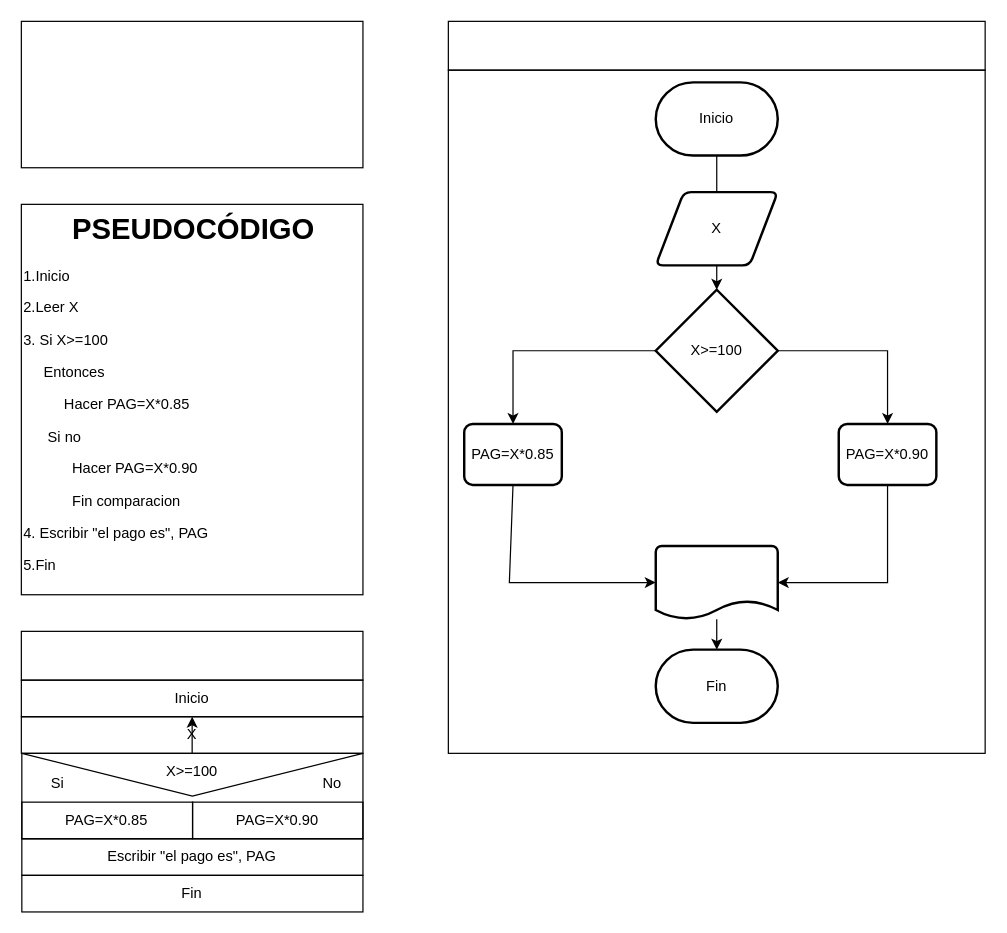
Image size: 1007x933. Some labels were removed from this diagram. The centre of each missing label's shape, as x and y in pixels:
"el pago es", PAG: point 716,582
DIAGRAMA DE FLUJO: point 716,45
DIAGRAMA N/S .: point 191,655
VARIABLES 1. X cantidad de lapices 2. PAG Pago 3. 4. 5.: point 191,94
